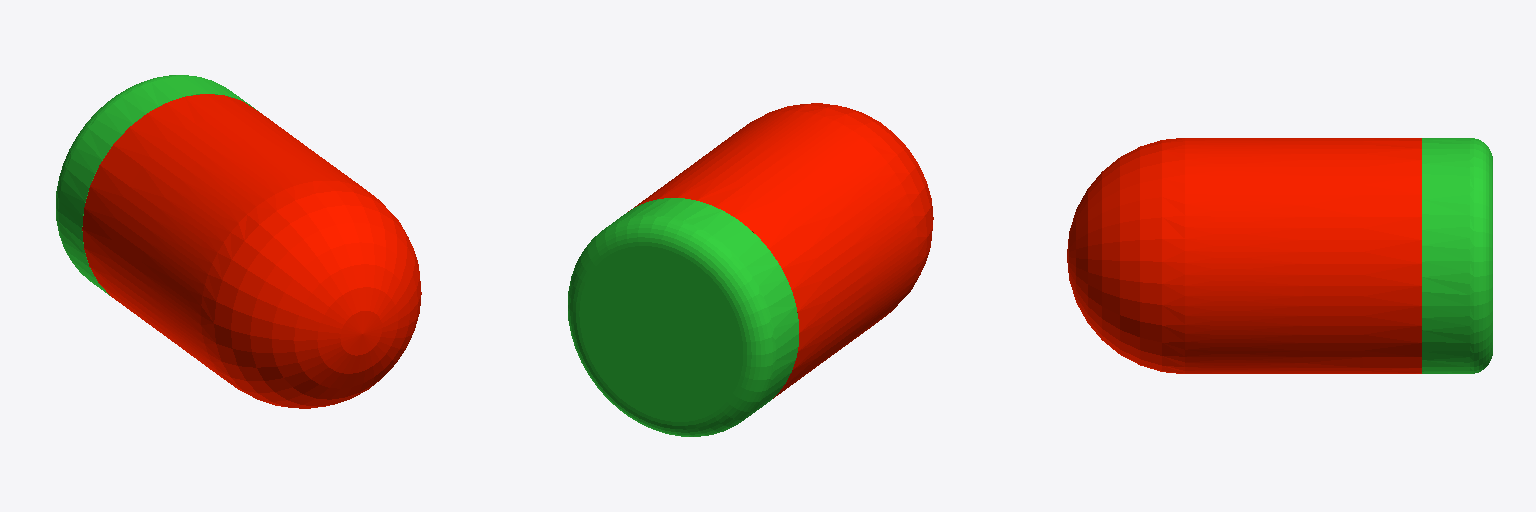
File: led2.obj
3 views of the same model, side by side, from view 1: azimuth 30°, elevation 25°; view 2: azimuth 150°, elevation 25°; view 3: azimuth 270°, elevation 25° (orthographic).
Size of the model in its own units: 10 by 10 by 18.